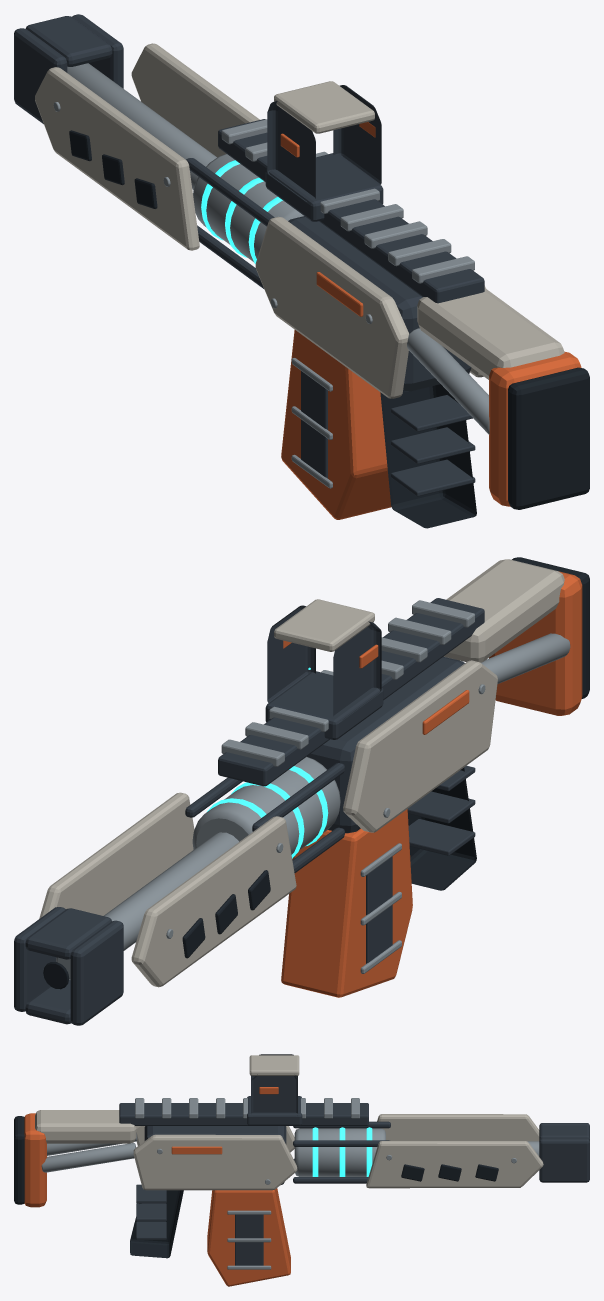
The model's file is mech-rifle.glb.
3 renders of one model, top to bottom at view 1: azimuth 30°, elevation 25°; view 2: azimuth 150°, elevation 25°; view 3: azimuth 270°, elevation 25°, orthographic. The views are drawn at different scales.
Parts seen in each view (by area): view 1: IonRifle_Lunar_ceramic, IonRifle_Graphite_frame, IonRifle_Grip_polymer, IonRifle_Machined_alloy, Cell magazine, Optic_Graphite_frame, IonRifle_Orange_armor, Sight top, Magazine_Graphite_frame, IonRifle_Ion_cyan, Magazine_Machined_alloy; view 2: IonRifle_Lunar_ceramic, IonRifle_Graphite_frame, IonRifle_Machined_alloy, Cell magazine, Optic_Graphite_frame, IonRifle_Orange_armor, IonRifle_Grip_polymer, Sight top, Magazine_Graphite_frame, IonRifle_Ion_cyan, Magazine_Machined_alloy; view 3: IonRifle_Lunar_ceramic, IonRifle_Graphite_frame, IonRifle_Machined_alloy, Cell magazine, IonRifle_Grip_polymer, Optic_Graphite_frame, IonRifle_Orange_armor, Magazine_Graphite_frame, Sight top, IonRifle_Ion_cyan, Magazine_Machined_alloy.
Boxes of the visible parts, <box> form: IonRifle_Lunar_ceramic: <box>35,43,564,398</box>; IonRifle_Graphite_frame: <box>14,14,484,496</box>; IonRifle_Grip_polymer: <box>69,130,589,528</box>; IonRifle_Machined_alloy: <box>53,63,489,434</box>; Cell magazine: <box>281,330,391,519</box>; Optic_Graphite_frame: <box>265,85,383,221</box>; IonRifle_Orange_armor: <box>316,272,581,506</box>; Sight top: <box>274,81,374,133</box>; Magazine_Graphite_frame: <box>301,371,327,478</box>; IonRifle_Ion_cyan: <box>201,160,282,263</box>; Magazine_Machined_alloy: <box>291,358,332,488</box>; IonRifle_Lunar_ceramic: <box>39,559,564,987</box>; IonRifle_Graphite_frame: <box>14,598,484,1025</box>; IonRifle_Machined_alloy: <box>56,600,570,979</box>; Cell magazine: <box>281,809,412,997</box>; Optic_Graphite_frame: <box>265,605,383,739</box>; IonRifle_Orange_armor: <box>422,571,582,734</box>; IonRifle_Grip_polymer: <box>43,557,589,989</box>; Sight top: <box>274,599,374,651</box>; Magazine_Graphite_frame: <box>366,856,392,963</box>; IonRifle_Ion_cyan: <box>207,766,328,858</box>; Magazine_Machined_alloy: <box>360,843,401,973</box>; IonRifle_Lunar_ceramic: <box>35,1110,543,1190</box>; IonRifle_Graphite_frame: <box>119,1103,589,1239</box>; IonRifle_Machined_alloy: <box>41,1098,539,1184</box>; Cell magazine: <box>207,1188,290,1286</box>; IonRifle_Grip_polymer: <box>14,1116,498,1258</box>; Optic_Graphite_frame: <box>247,1054,302,1125</box>; IonRifle_Orange_armor: <box>24,1113,222,1207</box>; Magazine_Graphite_frame: <box>235,1214,263,1265</box>; Sight top: <box>249,1055,299,1075</box>; IonRifle_Ion_cyan: <box>312,1127,372,1176</box>; Magazine_Machined_alloy: <box>227,1210,271,1269</box>.
Bounding box in the file's own units: 0.1368 × 0.4244 × 1.02.
